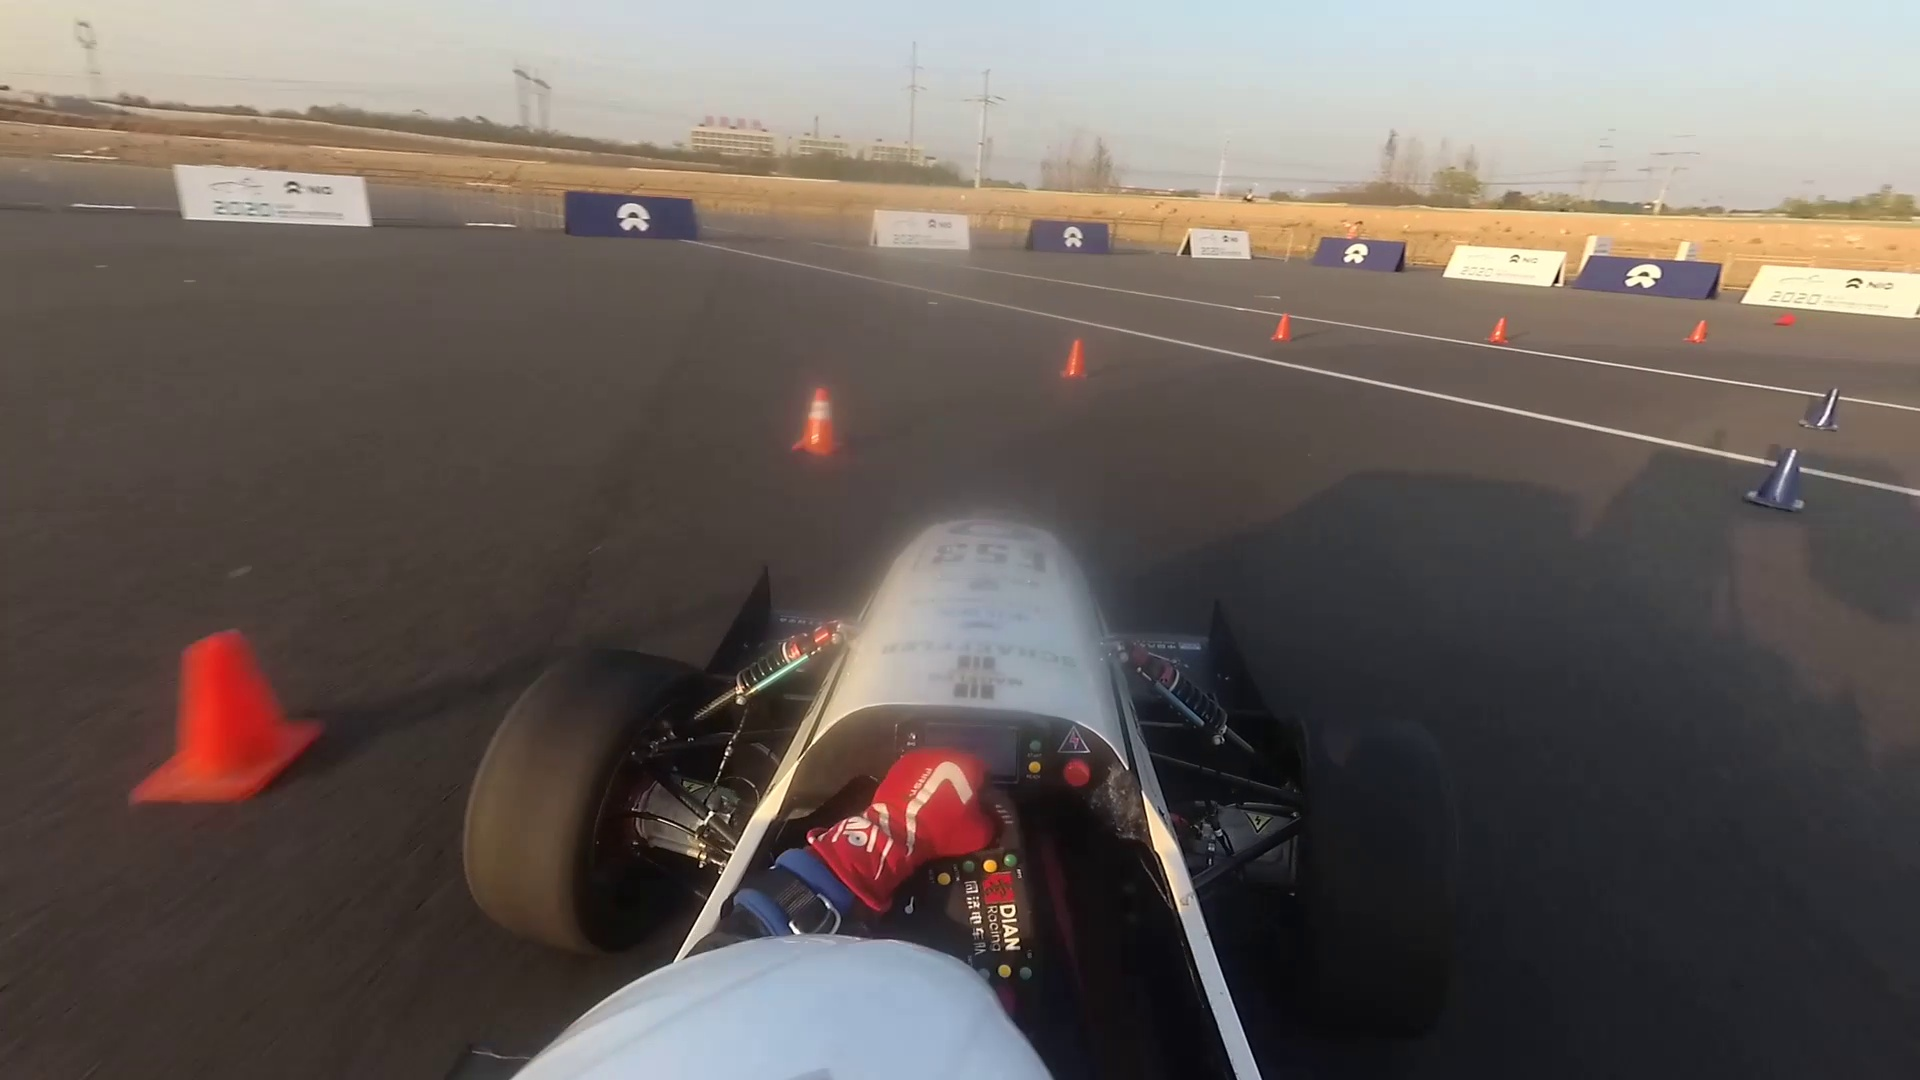red_cone: (117, 630, 336, 804), (771, 381, 853, 469), (1751, 439, 1804, 518), (1793, 373, 1844, 436), (1042, 330, 1091, 381), (1480, 307, 1516, 357), (1677, 311, 1717, 357), (1270, 305, 1302, 357), (1776, 301, 1803, 335)
